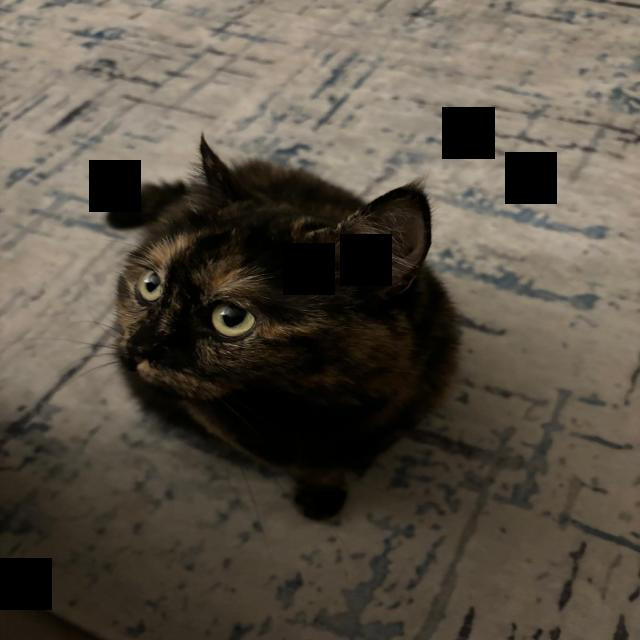authorized: (86, 130, 462, 522)
